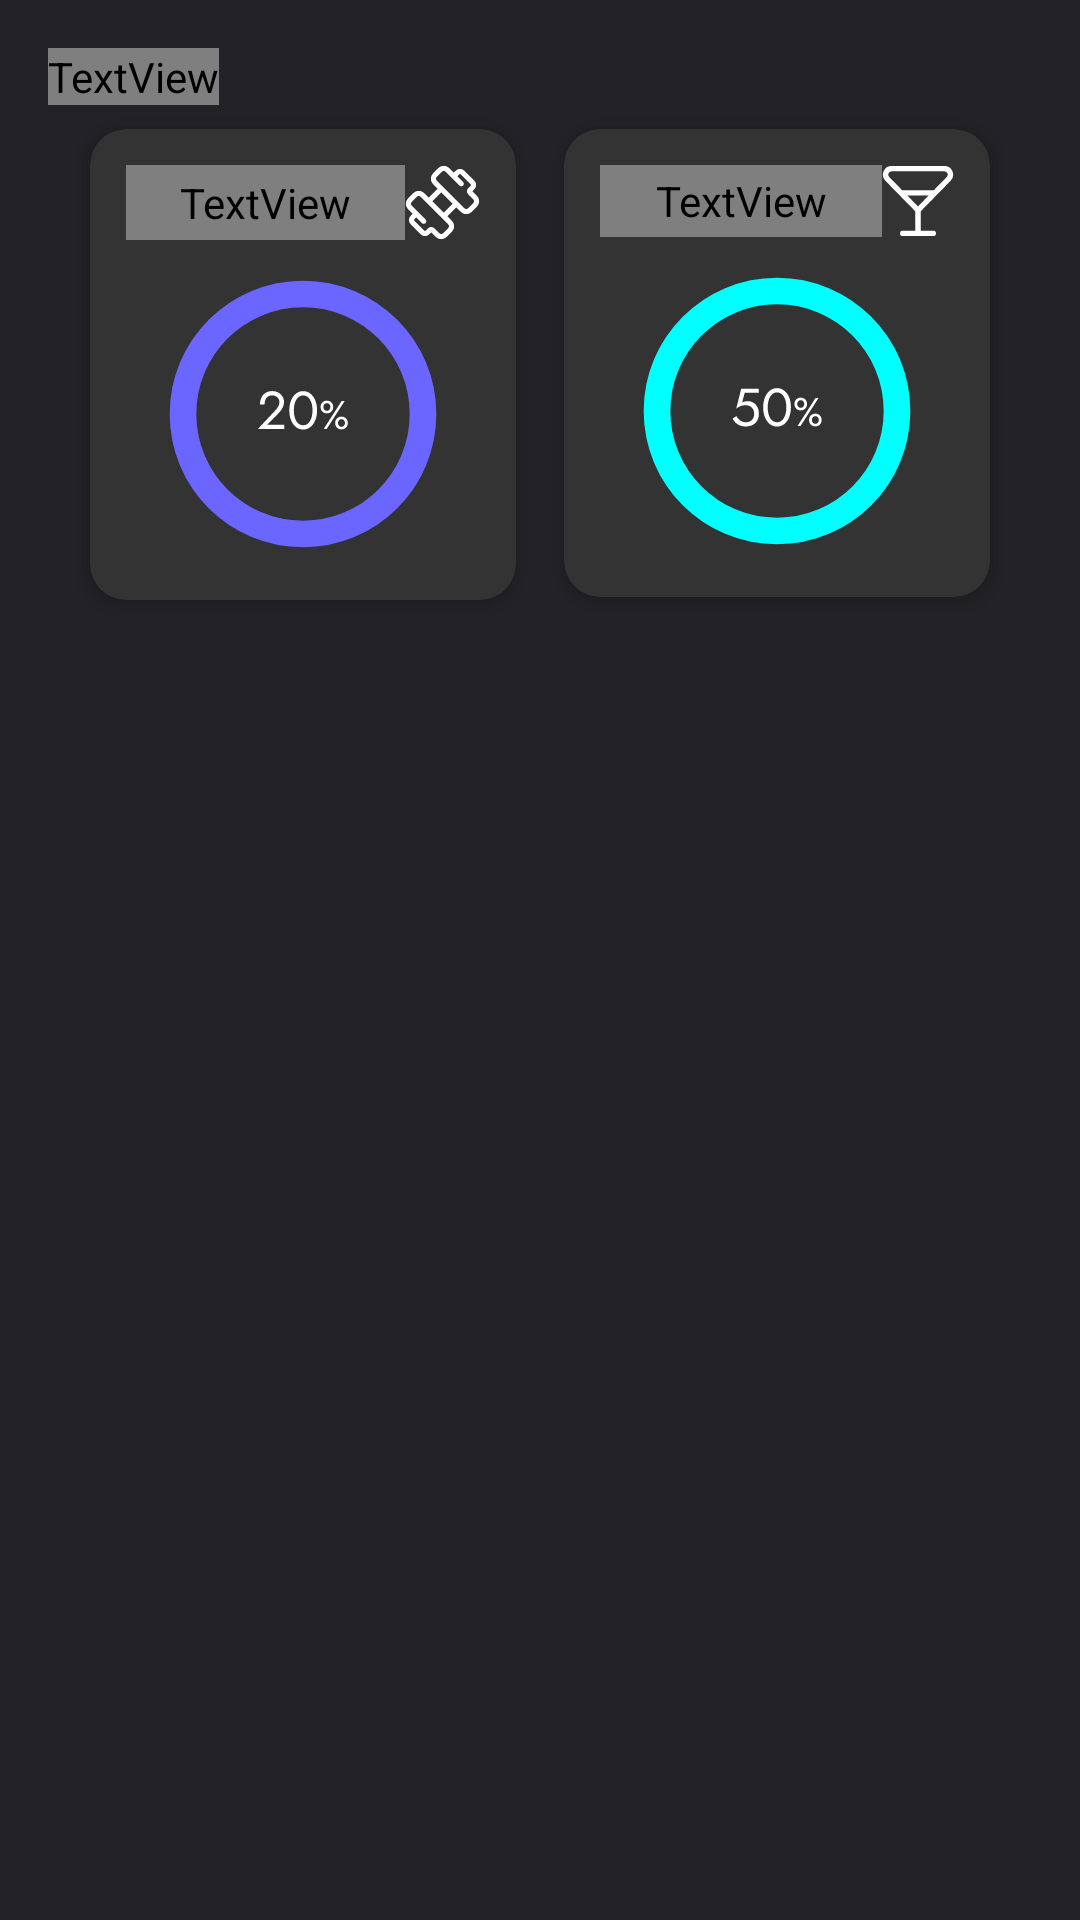

Named icons in this screenshot (1080×1920) and their bounding boxes, (x1, y1, x2, y2):
im progress circular: (643, 277, 911, 545), (169, 280, 437, 548)
